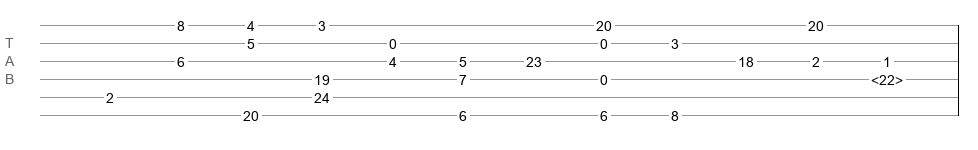0: (389, 36, 397, 46), (600, 72, 608, 82), (600, 36, 608, 46)
1: (883, 54, 891, 64)
18: (738, 54, 754, 64)
19: (314, 72, 330, 82)
2: (106, 90, 114, 100), (812, 54, 820, 64)
20: (243, 108, 259, 118), (596, 18, 612, 28), (808, 18, 824, 28)
23: (526, 54, 542, 64)
24: (314, 90, 330, 100)
3: (318, 18, 326, 28), (671, 36, 679, 46)
4: (247, 18, 255, 28), (389, 54, 397, 64)
5: (247, 36, 255, 46), (459, 54, 467, 64)
6: (177, 54, 185, 64), (459, 108, 467, 118), (600, 108, 608, 118)
7: (459, 72, 467, 82)
8: (177, 18, 185, 28), (671, 108, 679, 118)
harmonic: (871, 72, 903, 82)
